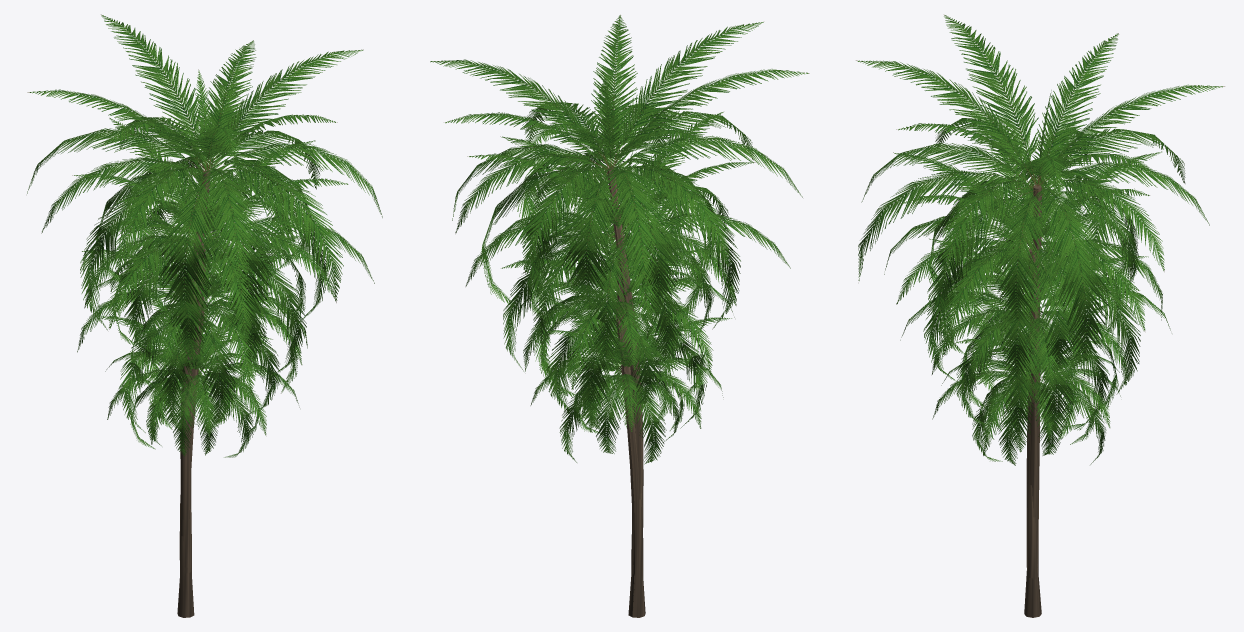
The model's file is tree_palm.glb.
3 renders of one model, left to right at view 1: azimuth 30°, elevation 25°; view 2: azimuth 150°, elevation 25°; view 3: azimuth 270°, elevation 25°, orthographic.
Visible parts, largest first — view 1: V3_LOD0, V2_LOD0, V1_LOD0, V0_LOD0; view 2: V3_LOD0, V2_LOD0, V1_LOD0, V0_LOD0; view 3: V3_LOD0, V2_LOD0, V1_LOD0, V0_LOD0.
Part boxes in pixels (x1=…): V3_LOD0: x1=27, y1=14, x2=382, y2=617; V2_LOD0: x1=72, y1=79, x2=374, y2=617; V1_LOD0: x1=77, y1=201, x2=307, y2=575; V0_LOD0: x1=100, y1=282, x2=299, y2=573; V3_LOD0: x1=430, y1=15, x2=809, y2=617; V2_LOD0: x1=465, y1=81, x2=790, y2=617; V1_LOD0: x1=501, y1=203, x2=734, y2=532; V0_LOD0: x1=530, y1=291, x2=731, y2=574; V3_LOD0: x1=856, y1=15, x2=1224, y2=617; V2_LOD0: x1=884, y1=116, x2=1162, y2=617; V1_LOD0: x1=900, y1=205, x2=1170, y2=616; V0_LOD0: x1=932, y1=294, x2=1120, y2=617.
Size of what is drawn, in the model's own units: 16.11 by 24.27 by 15.83.
2 materials, 2 textured.
